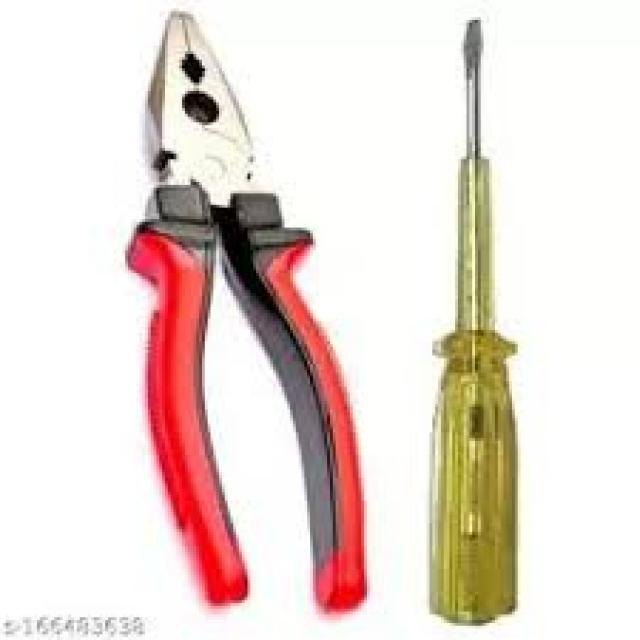screwdriver: (425, 13, 519, 630)
